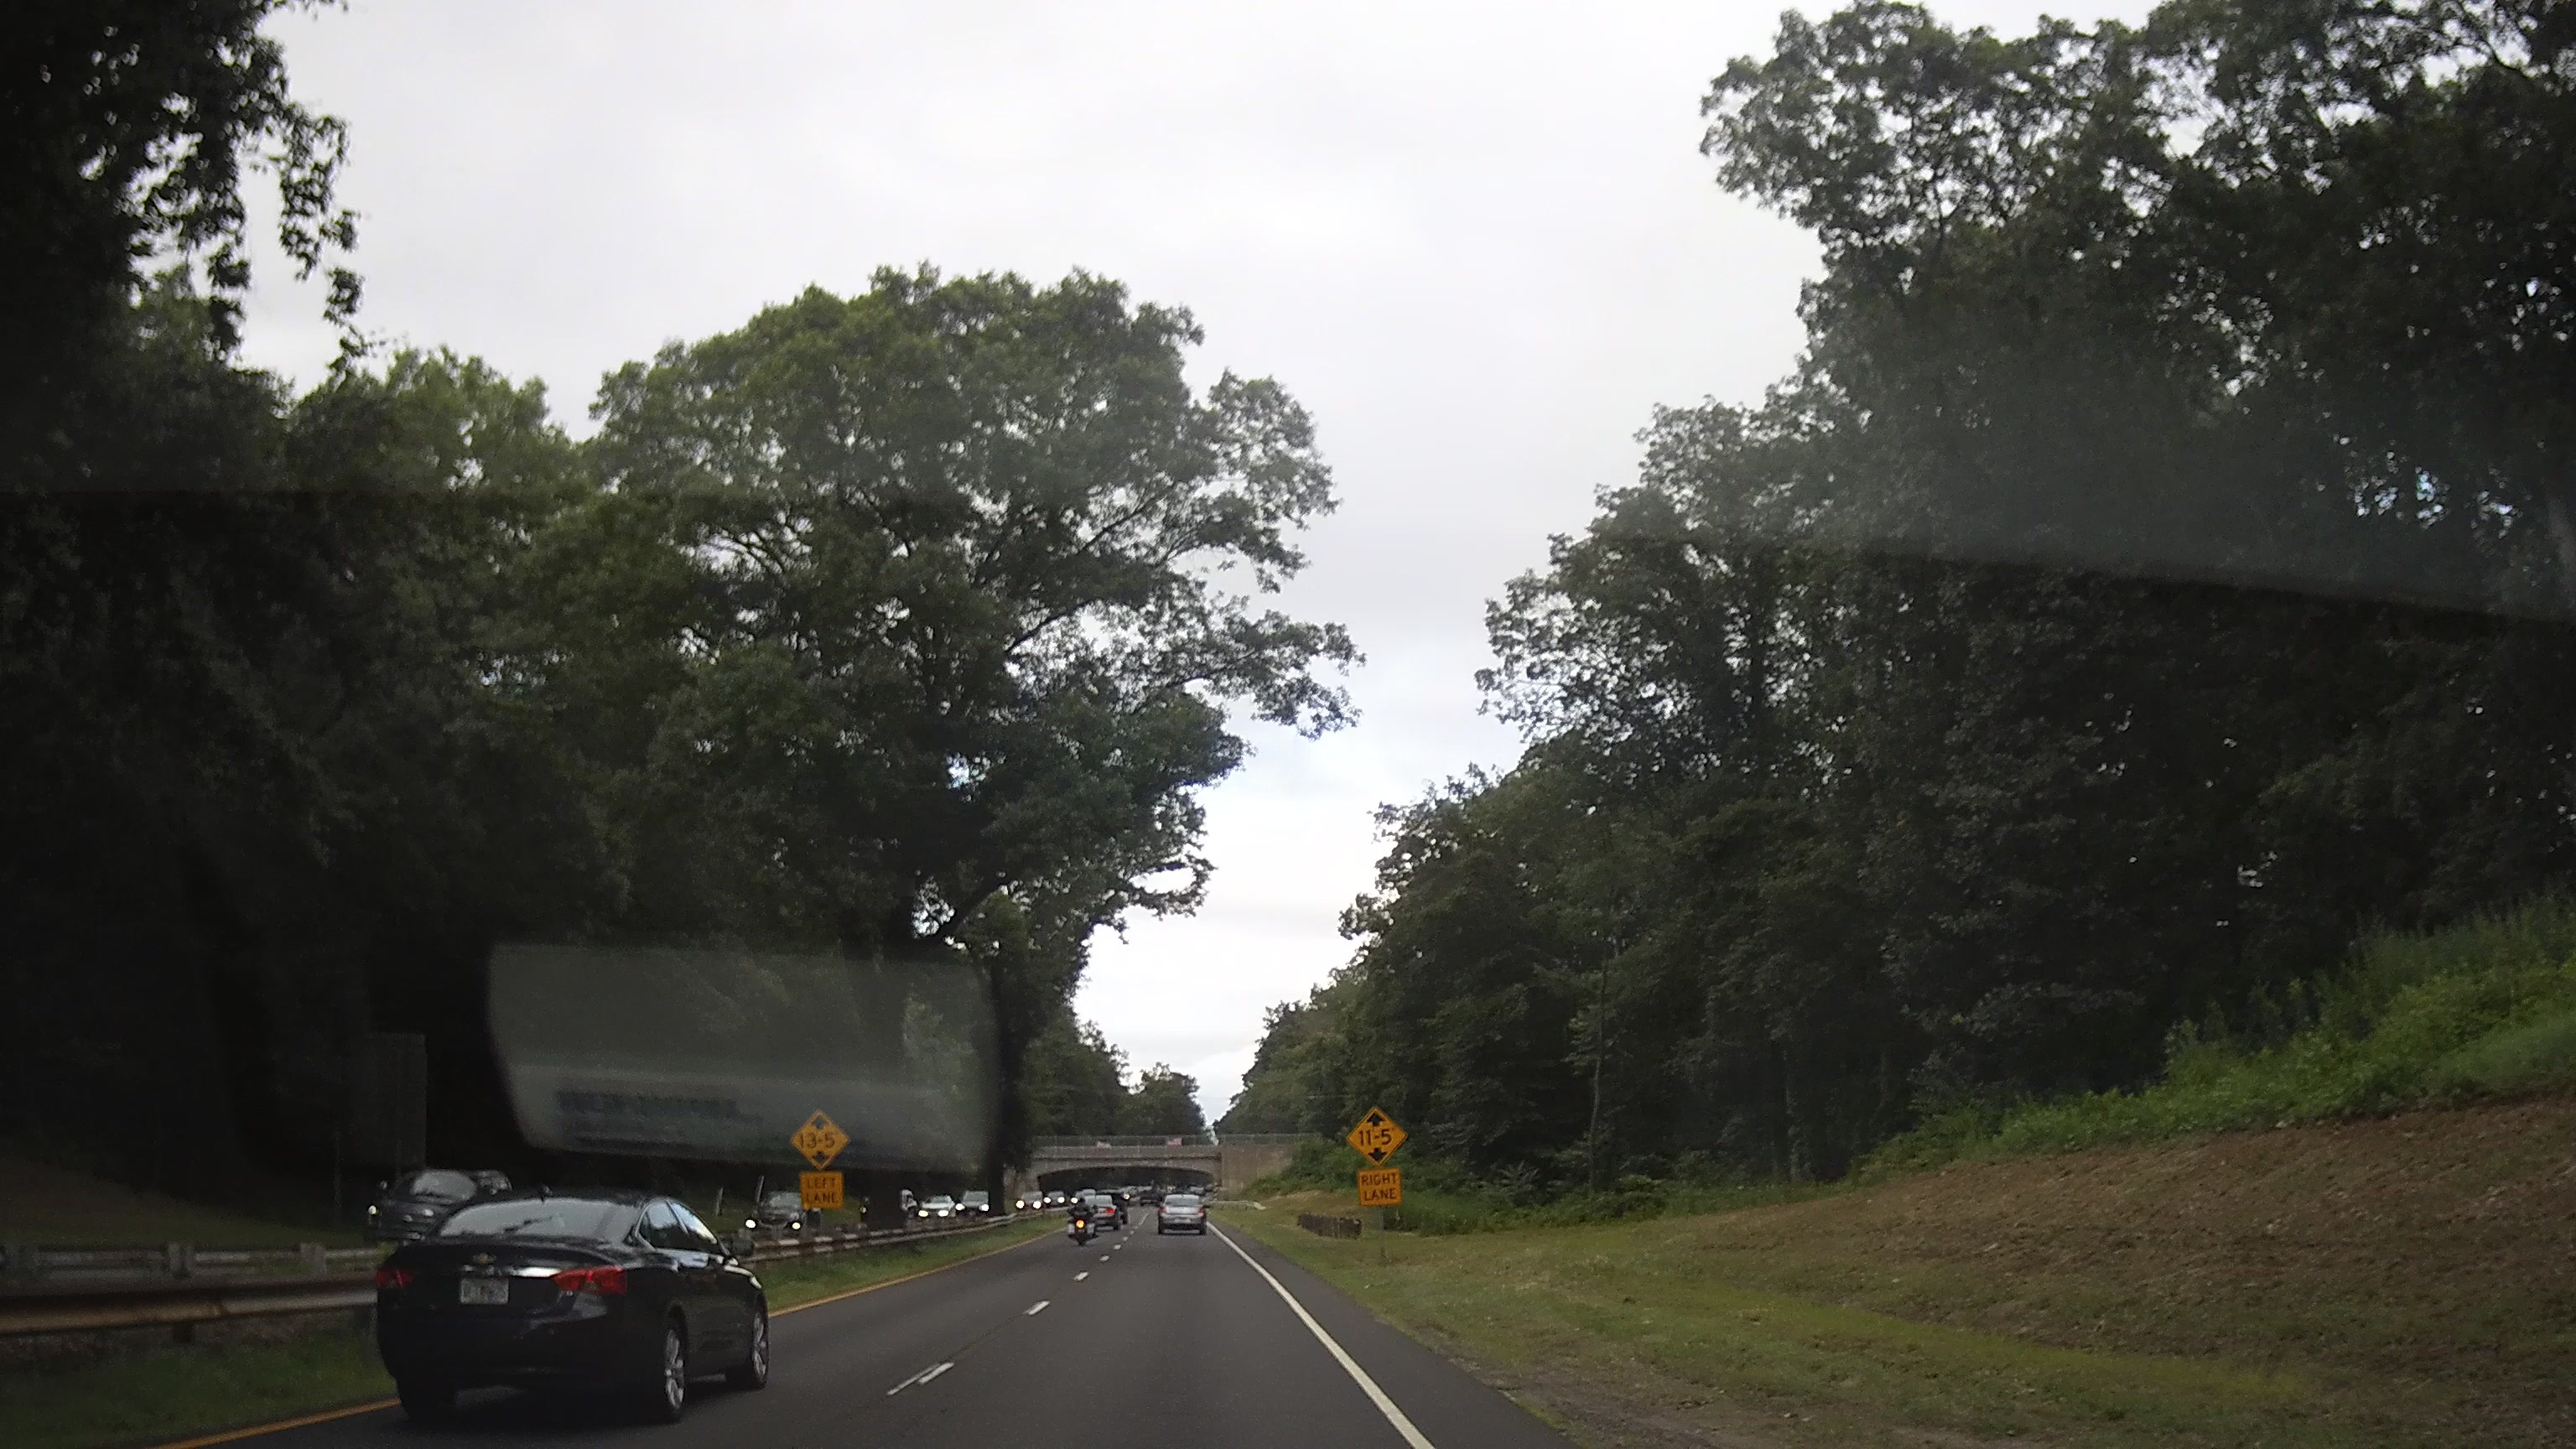low-clearance-sign: (1345, 1104, 1408, 1169), (789, 1108, 851, 1173)
